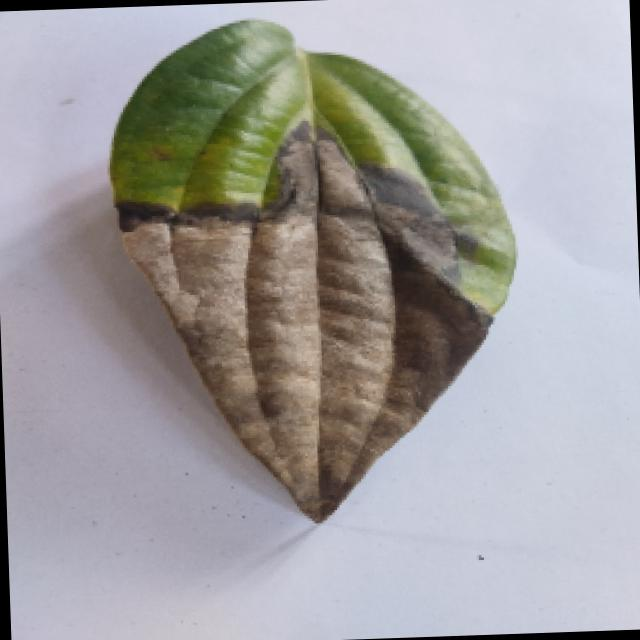footrot: (82, 14, 556, 560)
